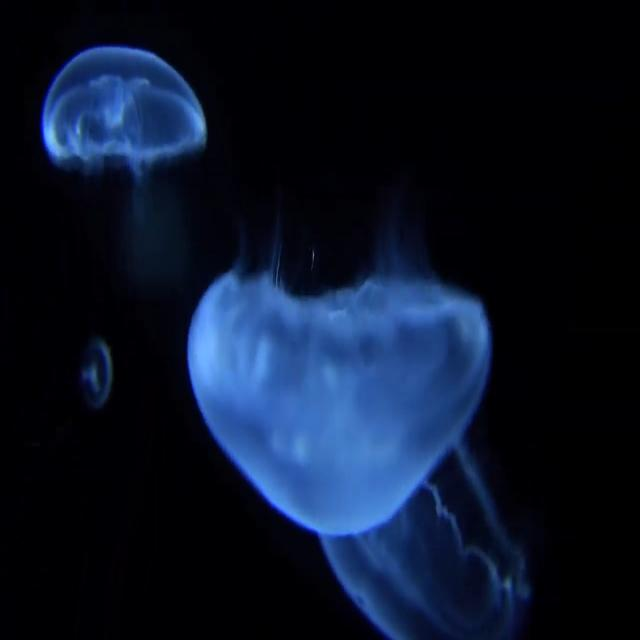Moon-jellyfish: (188, 269, 530, 639), (40, 46, 208, 204)
